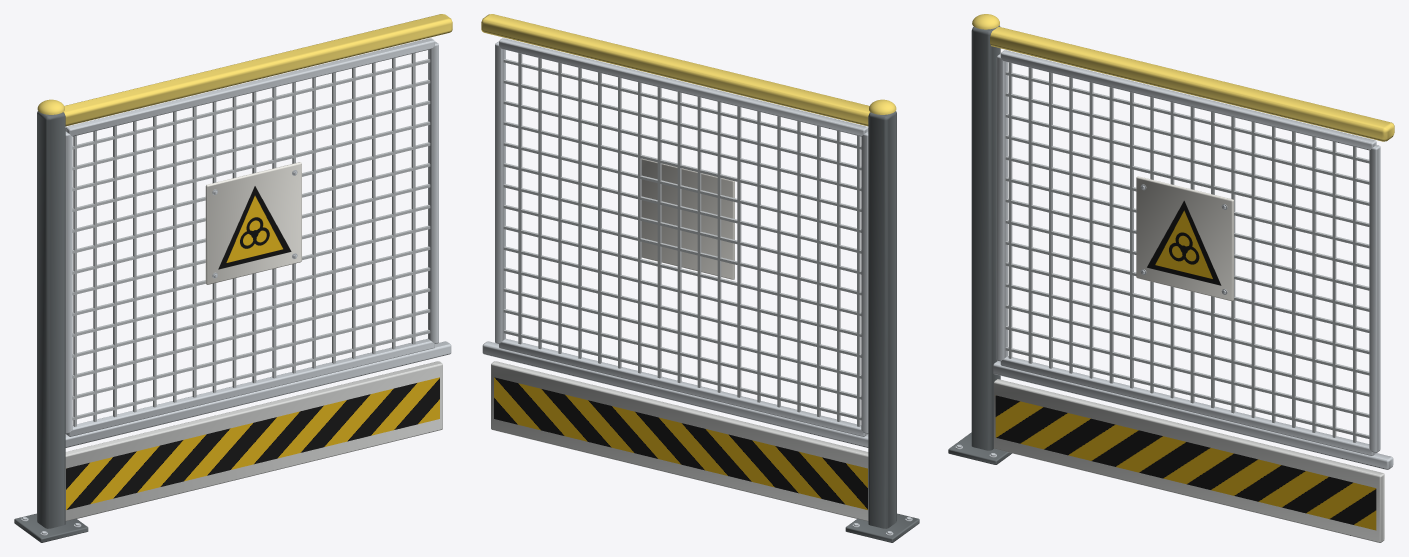
Rendered from valla_aviso.glb.
3 views of the same model, side by side, from view 1: azimuth 30°, elevation 25°; view 2: azimuth 150°, elevation 25°; view 3: azimuth 330°, elevation 25° (orthographic).
Parts seen in each view (by area): view 1: franja-1, poste-0.5, rodapie, pasamanos, cartel_placa, marco_h0.94, travesano, marco_h0.22, marco_v0.46, cartel, marco_v-0.46, mh21 (+32 smaller); view 2: franja1, poste-0.5, rodapie, pasamanos, cartel_placa, marco_h0.94, travesano, marco_h0.22, marco_v0.46, marco_v-0.46, mh21, mh18 (+31 smaller); view 3: franja-1, rodapie, poste-0.5, pasamanos, cartel_placa, marco_h0.94, travesano, marco_h0.22, marco_v0.46, marco_v-0.46, cartel, mh31 (+32 smaller).
Boxes of the visible parts, box(x1,y1,x2,y2) form: franja-1: box(66, 377, 439, 509); poste-0.5: box(37, 111, 65, 528); rodapie: box(65, 361, 442, 521); pasamanos: box(63, 14, 452, 126); cartel_placa: box(205, 162, 301, 284); marco_h0.94: box(65, 38, 434, 136); travesano: box(65, 341, 451, 447); marco_h0.22: box(66, 338, 434, 436); marco_v0.46: box(428, 41, 438, 343); cartel: box(218, 186, 291, 269); marco_v-0.46: box(65, 131, 72, 433); mh21: box(72, 267, 430, 357); franja1: box(494, 377, 867, 509); poste-0.5: box(868, 111, 896, 528); rodapie: box(491, 361, 868, 521); pasamanos: box(481, 14, 870, 126); cartel_placa: box(641, 158, 734, 279); marco_h0.94: box(499, 38, 868, 136); travesano: box(482, 341, 868, 447); marco_h0.22: box(499, 338, 867, 436); marco_v0.46: box(495, 41, 505, 343); marco_v-0.46: box(861, 131, 868, 433); mh21: box(503, 267, 861, 357); mh18: box(503, 329, 861, 420); franja-1: box(995, 395, 1376, 530); rodapie: box(994, 379, 1384, 542); poste-0.5: box(971, 25, 1000, 450); pasamanos: box(990, 27, 1394, 141); cartel_placa: box(1136, 176, 1233, 301); marco_h0.94: box(1000, 50, 1376, 150); travesano: box(993, 361, 1393, 469); marco_h0.22: box(1000, 356, 1375, 455); marco_v0.46: box(1369, 145, 1380, 452); marco_v-0.46: box(996, 53, 1007, 361); cartel: box(1147, 200, 1221, 285); mh31: box(1005, 71, 1369, 163).
Bounding box in the file's own units: 1.06 × 1.02 × 0.12.
8 materials, 2 textured.
